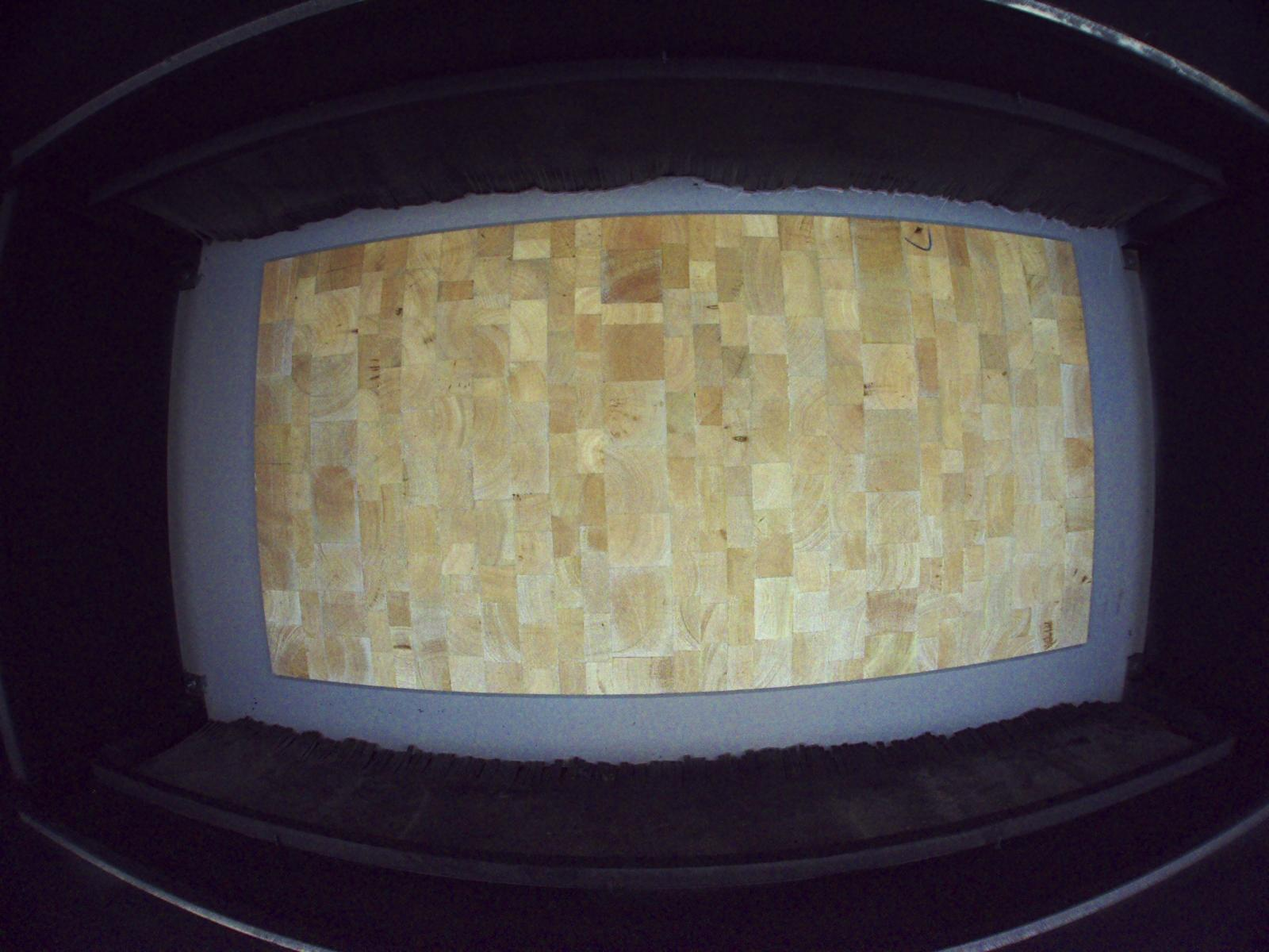sheck_ecuatoriano: (731, 416, 751, 461), (904, 226, 924, 246)
